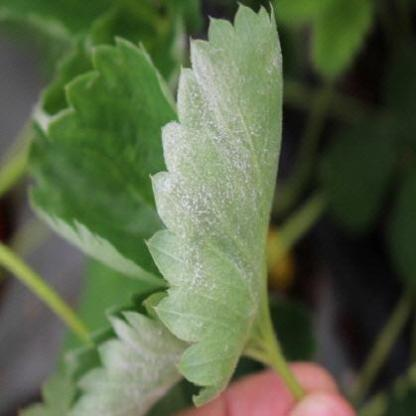Strawberry_Powdery_Mildew_Leaf: (143, 0, 285, 408), (23, 36, 178, 286), (64, 286, 193, 415)
